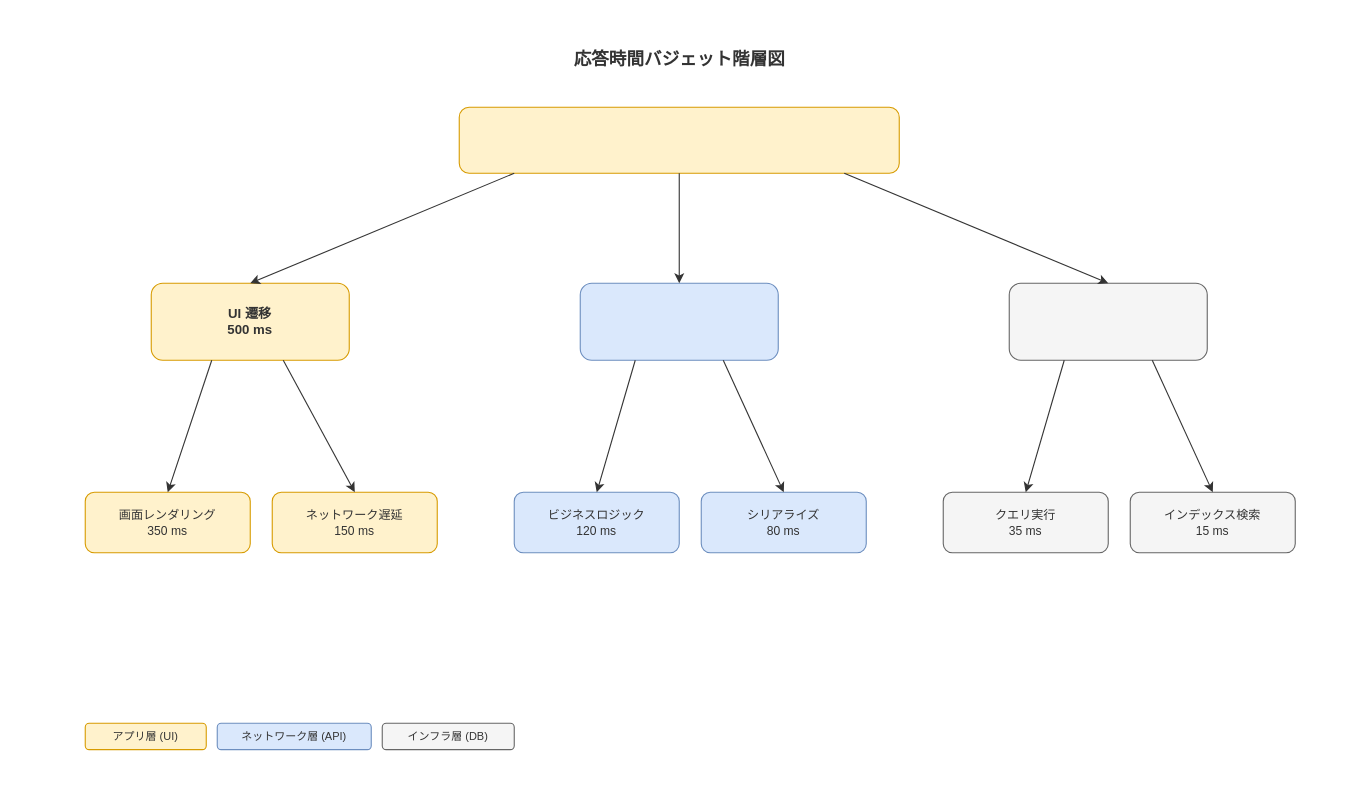
This 1357x807 diagram has some shape labels left out. Here are the shapes that lost their labels. From the top down, the box of each, then its label:
(458, 106, 899, 173): エンドユーザー体感レスポンス（P95）
(579, 282, 778, 360): API 処理 200 ms
(1008, 282, 1207, 360): DB 処理 50 ms
